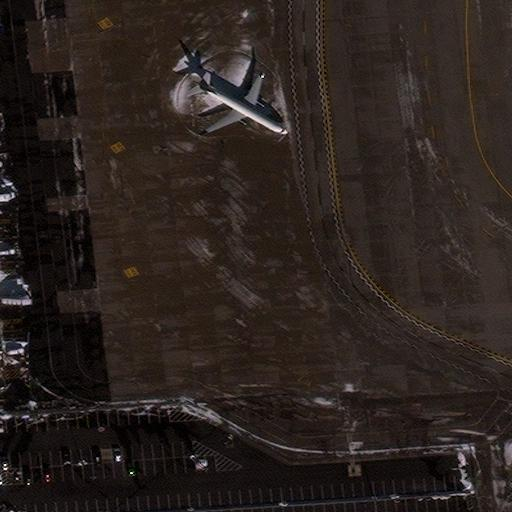Medium Civil Transport: (196, 75, 288, 133)
